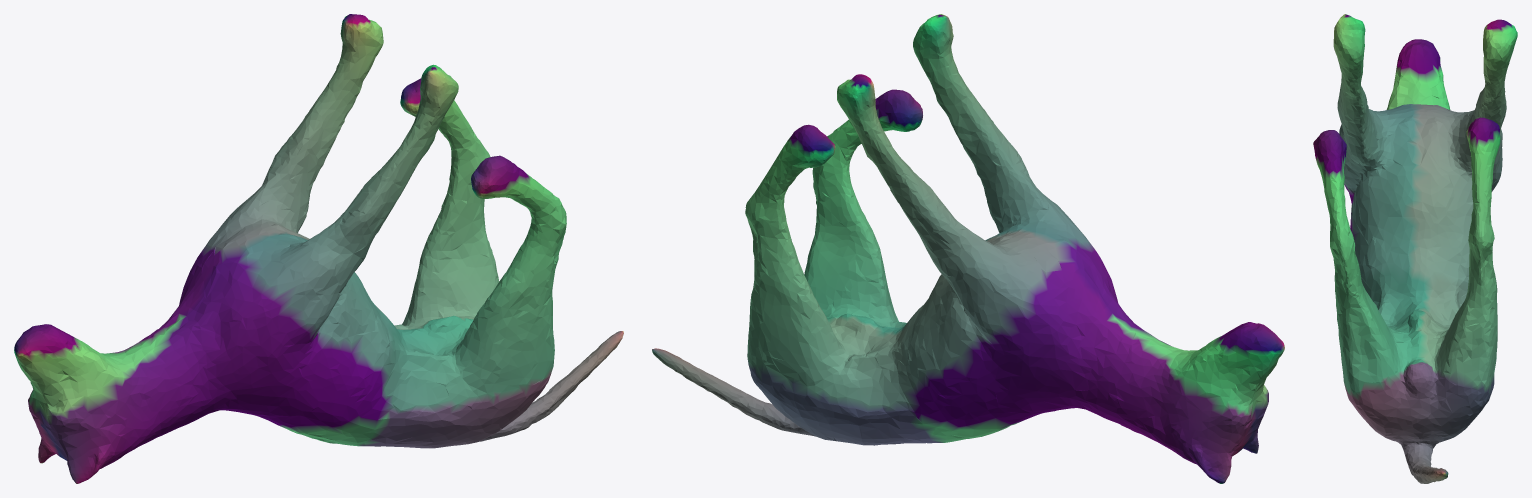
File: dog2-3.off.obj
The picture shows the model from 3 angles, left to right: view 1: azimuth 30°, elevation 25°; view 2: azimuth 150°, elevation 25°; view 3: azimuth 270°, elevation 25°; orthographic projection. The views are drawn at different scales.
Bounding box in the file's own units: 1.68 × 1.08 × 0.4977.
